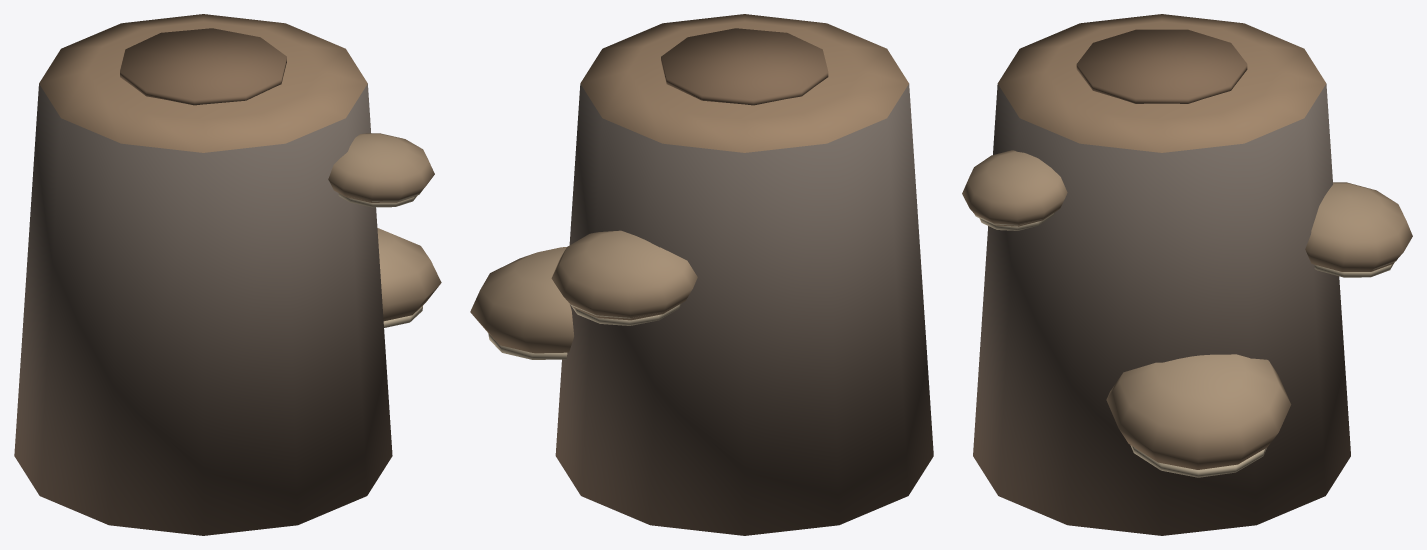
The model's file is ing_tinder_fungus.glb.
3 views of the same model, side by side, from view 1: azimuth 30°, elevation 25°; view 2: azimuth 150°, elevation 25°; view 3: azimuth 270°, elevation 25° (orthographic).
Visible parts, largest first — view 1: ing_tinder_fungus; view 2: ing_tinder_fungus; view 3: ing_tinder_fungus.
Boxes of the visible parts, x1=… form: ing_tinder_fungus: x1=14, y1=14, x2=441, y2=535; ing_tinder_fungus: x1=470, y1=14, x2=933, y2=535; ing_tinder_fungus: x1=962, y1=14, x2=1412, y2=535.
Size of what is drawn, in the model's own units: 0.3675 by 0.3392 by 0.351.
